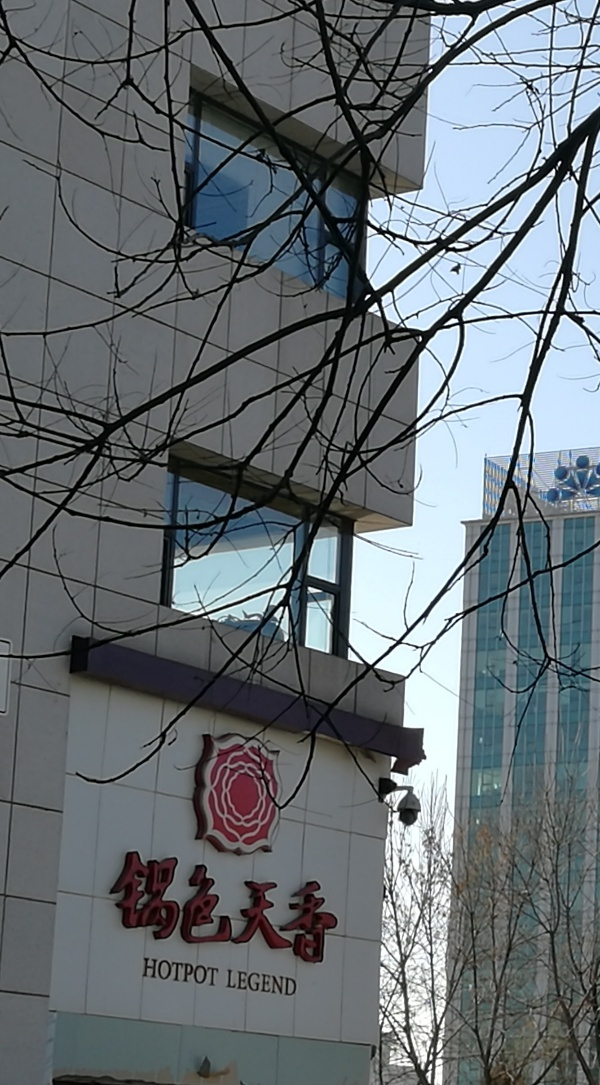text: (129, 846, 144, 969), (145, 846, 160, 969), (161, 846, 176, 969), (177, 846, 192, 969), (193, 846, 208, 969), (209, 846, 224, 969), (225, 846, 240, 969), (241, 846, 256, 969), (257, 846, 272, 969), (273, 846, 288, 969), (289, 846, 304, 969), (305, 846, 320, 969), (321, 846, 336, 969), (116, 846, 128, 969), (337, 846, 346, 969), (145, 956, 160, 988), (161, 956, 176, 988), (177, 956, 192, 988), (193, 956, 208, 988), (241, 968, 256, 998), (257, 968, 272, 998), (273, 968, 288, 998), (227, 968, 240, 998), (209, 956, 221, 988), (289, 968, 298, 998), (143, 956, 144, 988)
